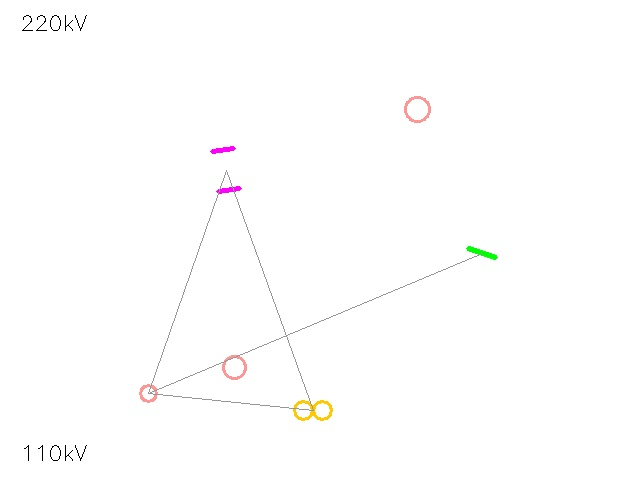busbar: (464, 235, 500, 271)
capacitor: (192, 136, 260, 204)
feeder_terminal: (212, 345, 256, 389), (132, 377, 164, 409)
fuse: (393, 85, 441, 133)
transformer_2w: (290, 387, 336, 433)
